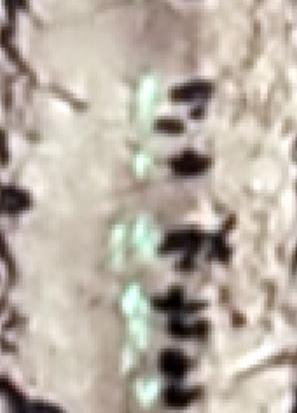cotton: (111, 222, 156, 257), (122, 286, 151, 317), (135, 380, 159, 405), (140, 76, 158, 109), (126, 321, 146, 347), (131, 154, 153, 176)
